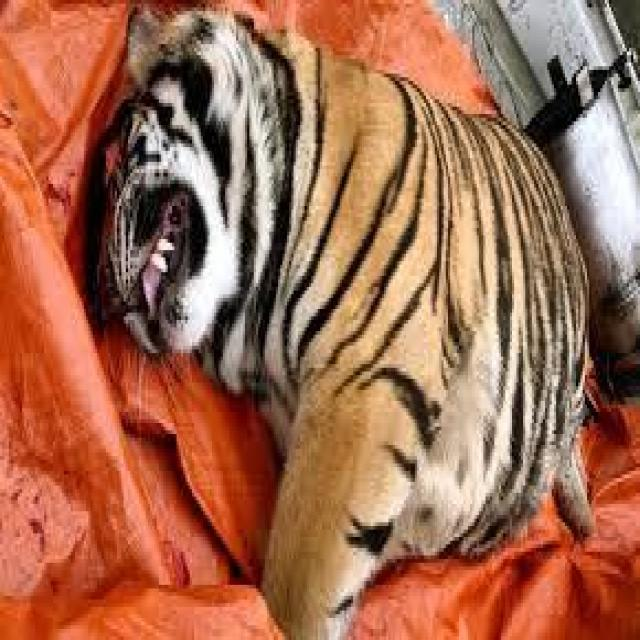Tiger: (68, 37, 554, 588)
